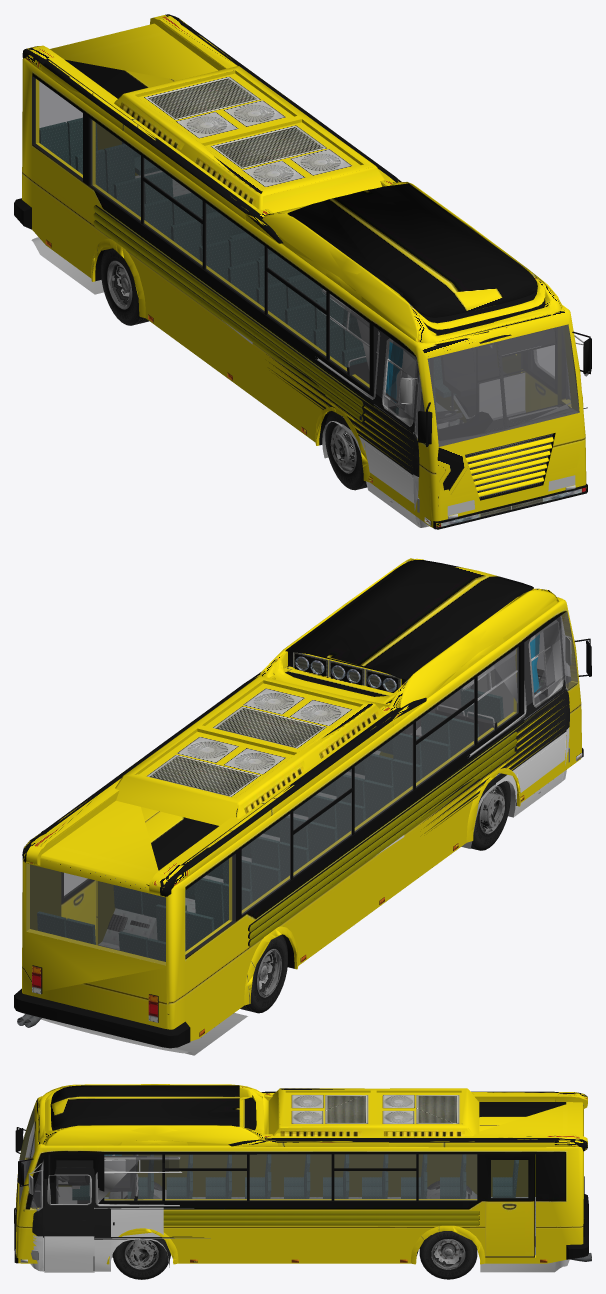
Rendered from kl_pvtbus.glb.
The picture shows the model from 3 angles, top to bottom: view 1: azimuth 30°, elevation 25°; view 2: azimuth 150°, elevation 25°; view 3: azimuth 270°, elevation 25°; orthographic projection. The views are drawn at different scales.
Parts seen in each view (by area): view 1: body_0 (×2), body_1 (×2), body_3, body_35, body_17, spin (×3), body_7, body_9, body_33, body_26, body_31, body_14; view 2: body_0 (×2), body_1 (×2), body_3, body_7, body_17, spin (×3), body_9, body_35, body_36; view 3: body_0 (×2), body_1 (×2), body_3, spin (×4), body_17, body_9, body_7, body_35, body_26, body_8, body_33, body_27.
Boxes of the visible parts, box(x1,y1,x2,y2) form: body_0 (×2): box(14, 14, 591, 529); body_1 (×2): box(32, 76, 579, 446); body_3: box(39, 117, 579, 498); body_35: box(349, 310, 570, 440); body_17: box(266, 321, 569, 476); spin (×3): box(101, 248, 367, 490); body_7: box(31, 237, 591, 526); body_9: box(324, 297, 427, 527); body_33: box(347, 344, 508, 410); body_26: box(222, 320, 524, 417); body_31: box(438, 328, 562, 440); body_14: box(501, 328, 554, 354); body_0 (×2): box(14, 558, 591, 1048); body_1 (×2): box(26, 612, 577, 965); body_3: box(30, 669, 571, 968); body_7: box(41, 616, 571, 1055); body_17: box(423, 616, 569, 833); spin (×3): box(240, 773, 510, 1013); body_9: box(467, 647, 569, 816); body_35: box(494, 616, 568, 705); body_36: box(477, 669, 513, 717); body_0 (×2): box(14, 1084, 588, 1264); body_1 (×2): box(19, 1106, 527, 1209); body_3: box(19, 1104, 583, 1255); spin (×4): box(112, 1231, 477, 1279); body_17: box(32, 1121, 161, 1237); body_9: box(30, 1154, 182, 1272); body_7: box(28, 1156, 569, 1272); body_35: box(25, 1137, 178, 1208); body_26: box(110, 1207, 163, 1236); body_8: box(27, 1132, 223, 1270); body_33: box(110, 1154, 138, 1201); body_27: box(58, 1186, 77, 1203).
Bounding box in the file's own units: 2.35 × 2.76 × 9.5.
18 materials, 6 textured.
